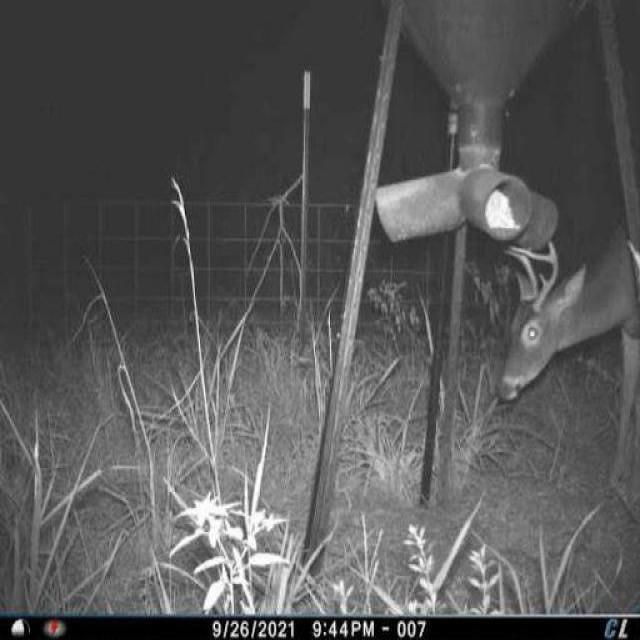deer: (490, 198, 640, 501)
